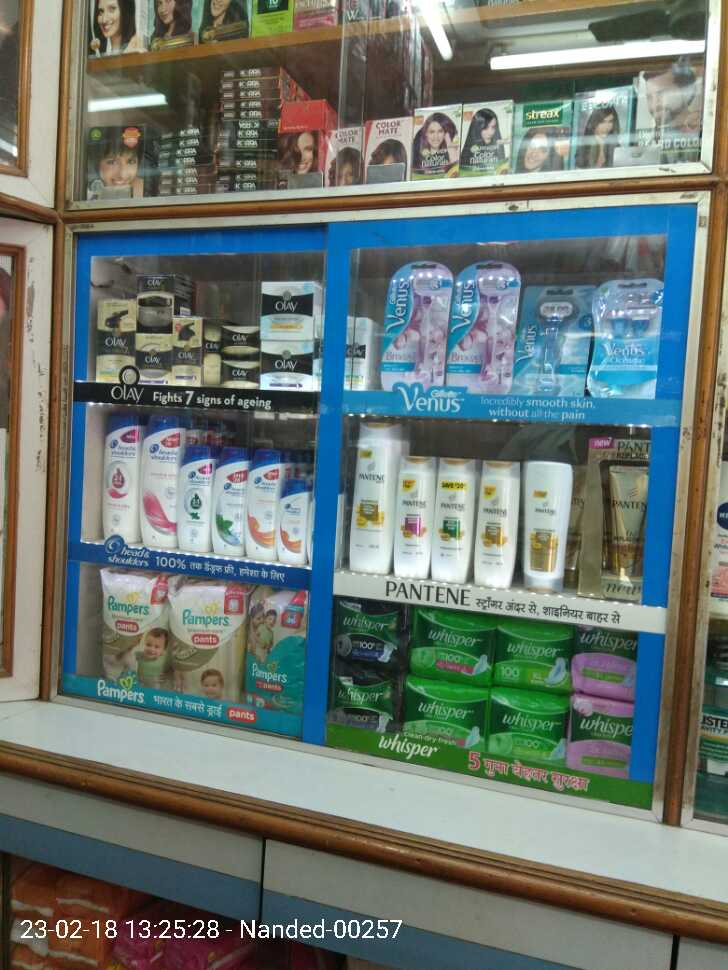venus: (588, 275, 665, 393), (448, 259, 519, 385), (389, 261, 448, 385), (523, 281, 588, 392)
